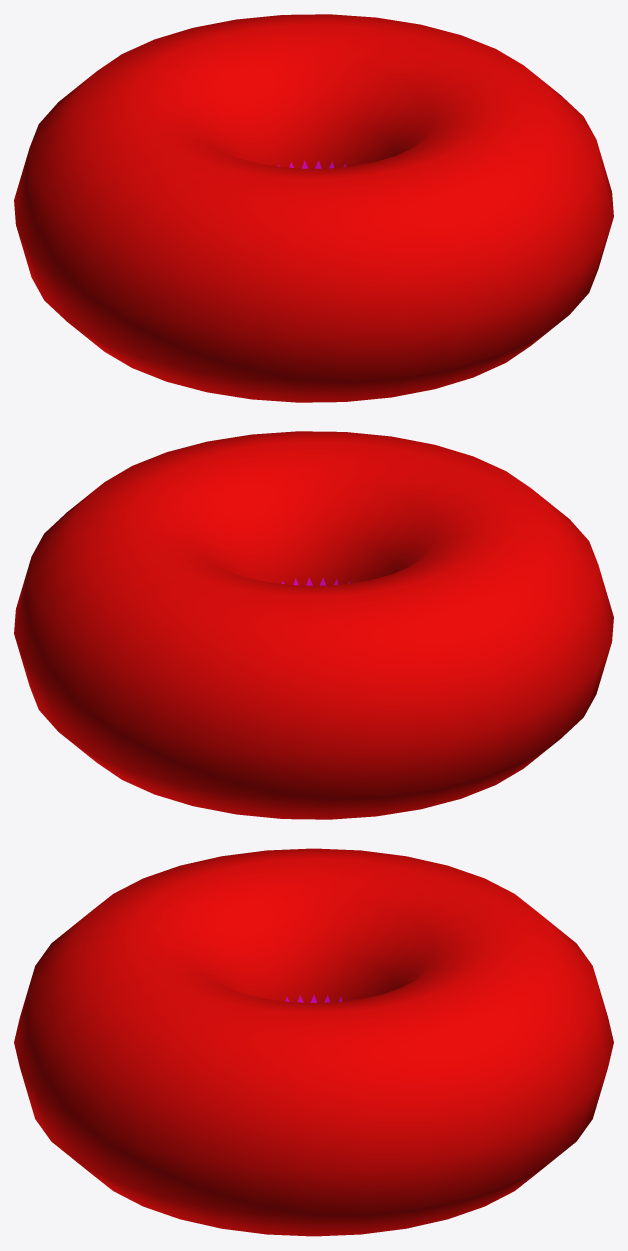
The model's file is regenenemy.glb.
3 views of the same model, one above another, from view 1: azimuth 30°, elevation 25°; view 2: azimuth 150°, elevation 25°; view 3: azimuth 270°, elevation 25° (orthographic).
Parts seen in each view (by area): view 1: Donut; view 2: Donut; view 3: Donut.
Boxes of the visible parts, box(x1,y1,x2,y2) form: Donut: box(14, 14, 613, 402); Donut: box(14, 431, 613, 819); Donut: box(14, 848, 613, 1236).
Bounding box in the file's own units: 1.28 × 0.5 × 1.28.
